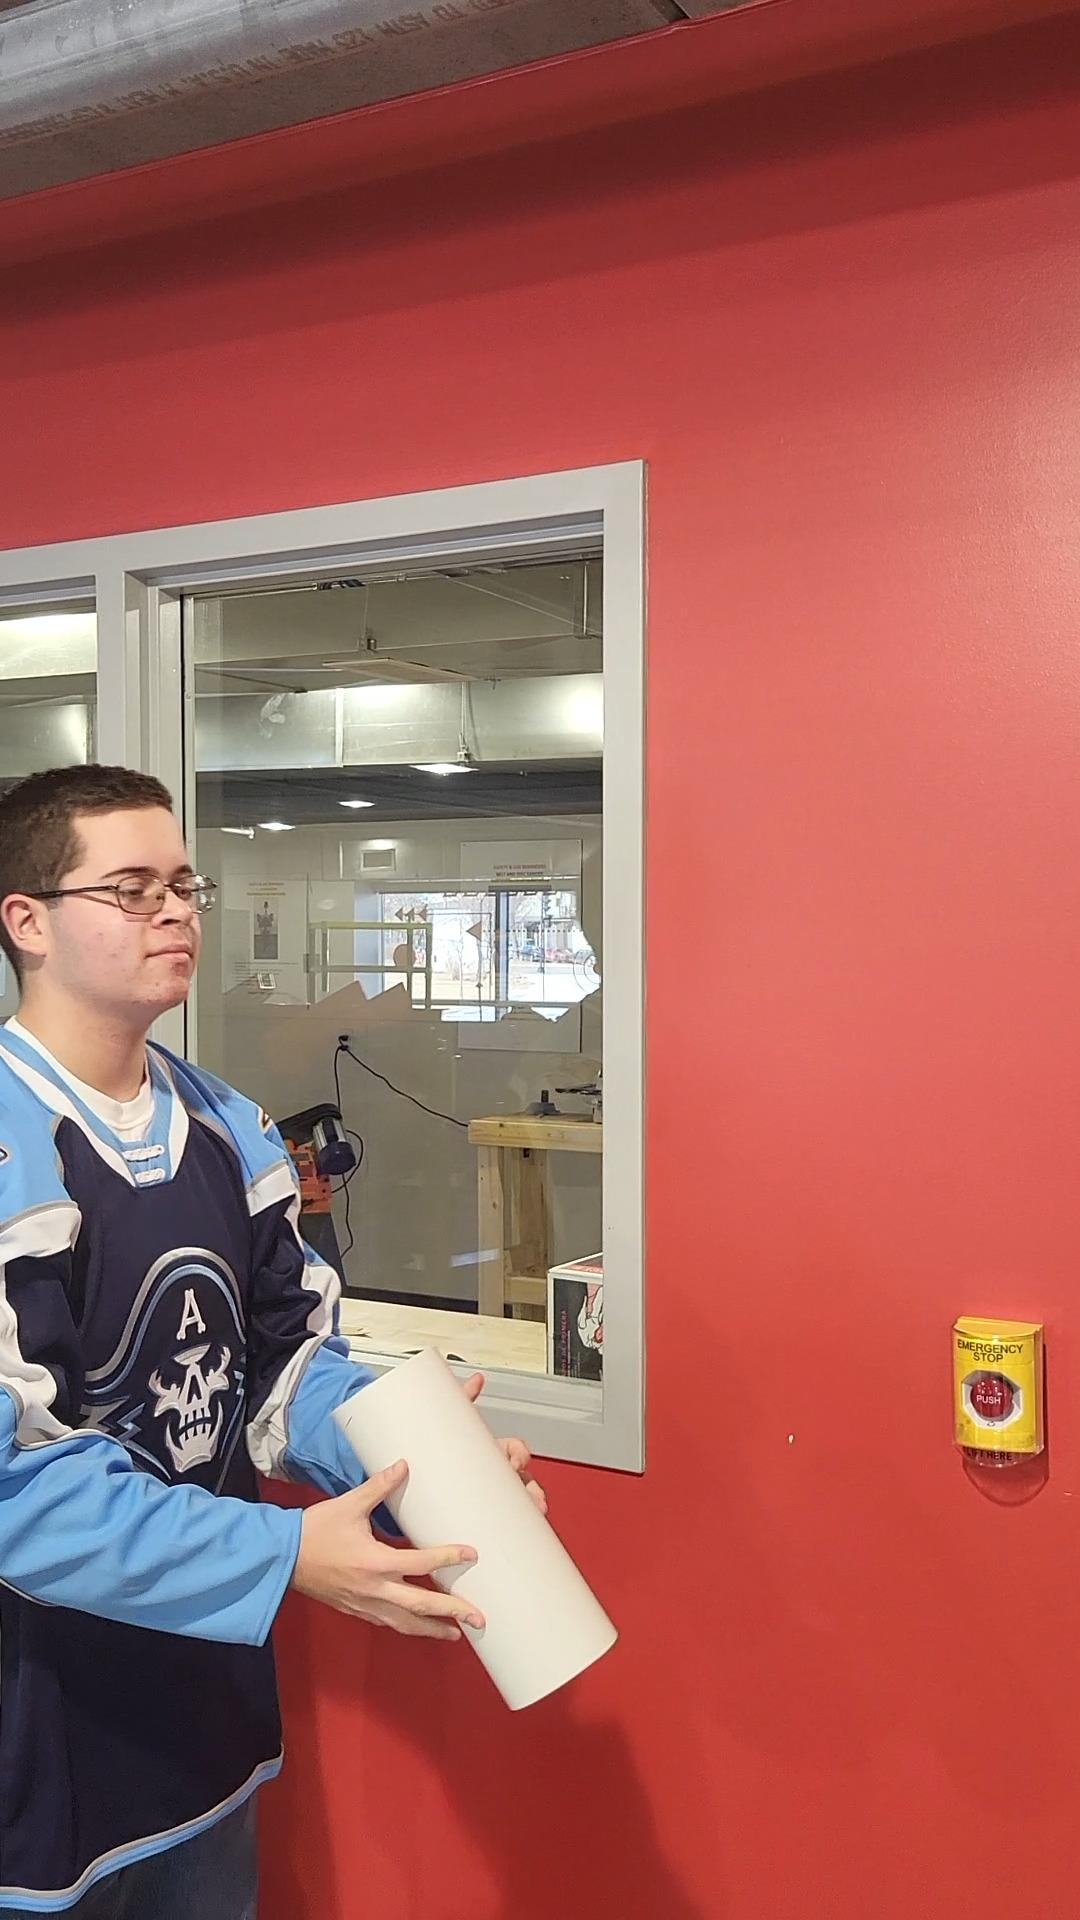coral: (336, 1353, 626, 1714)
